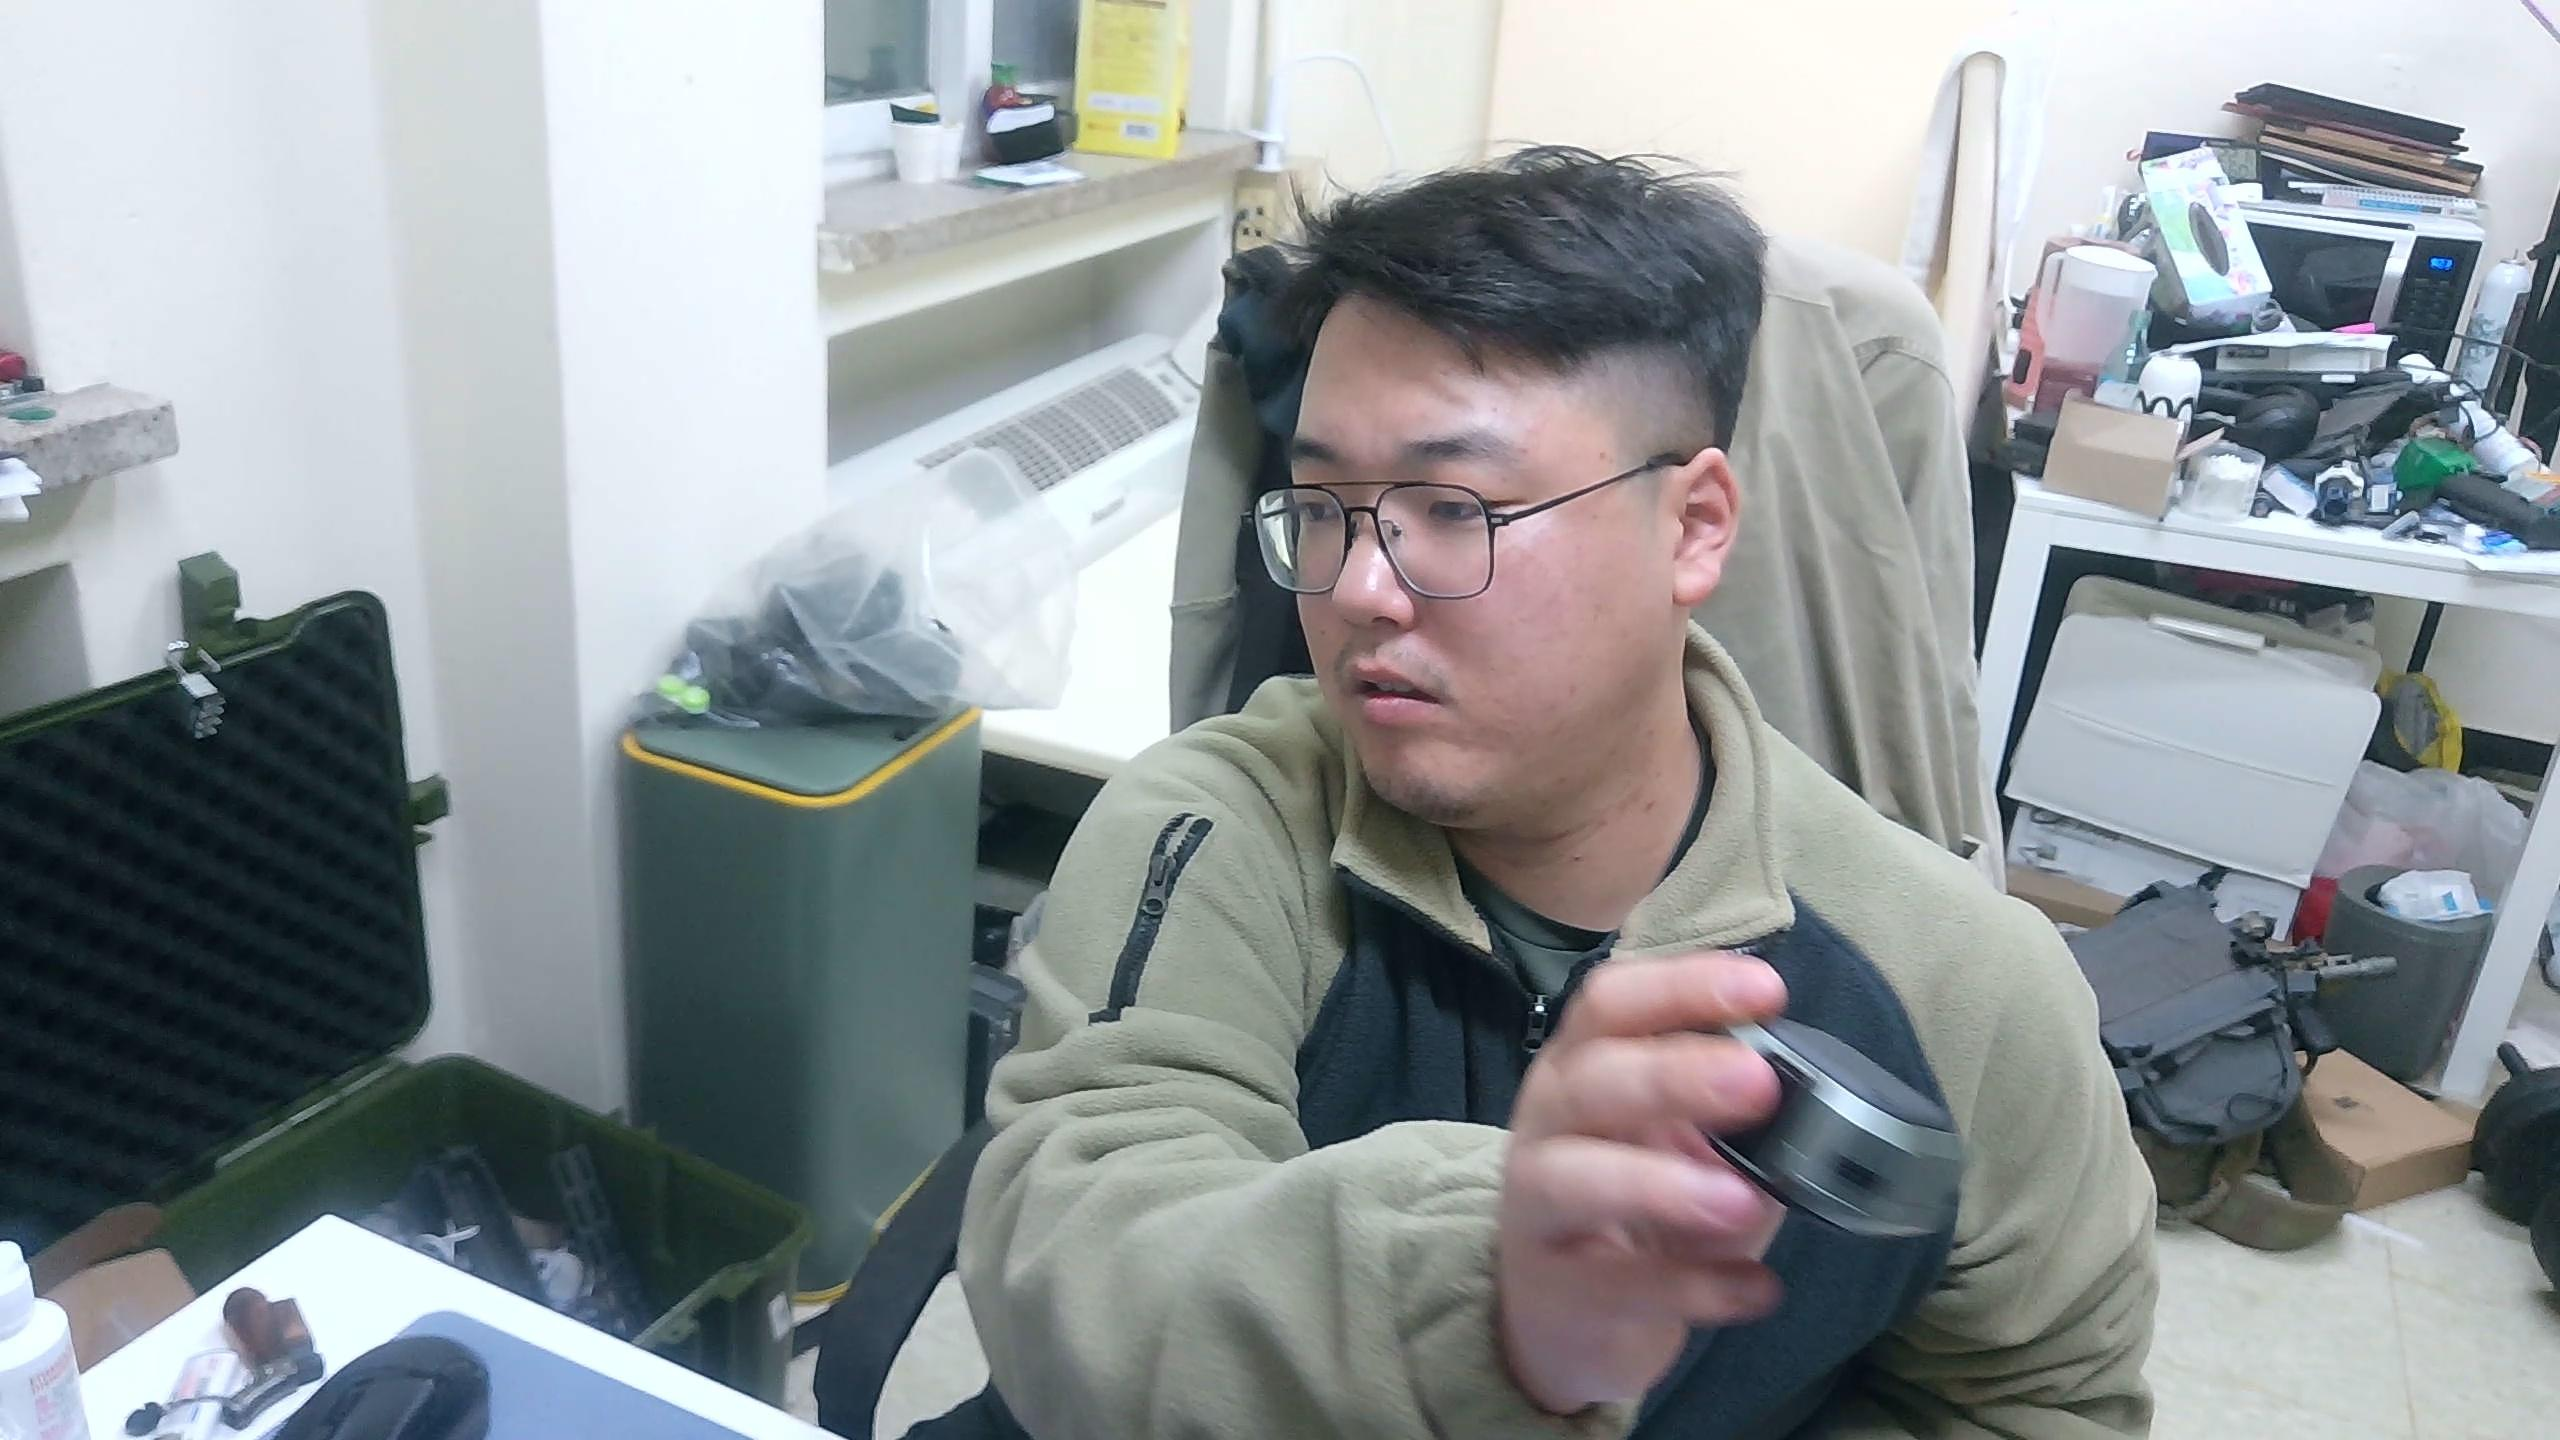blue_pliers: (1704, 1011, 1969, 1245)
